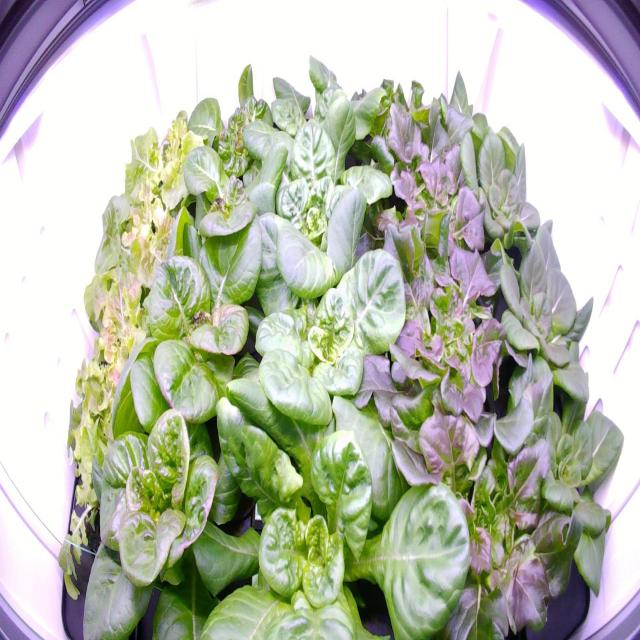Ready: (191, 344, 480, 636), (72, 342, 264, 637), (227, 186, 417, 442), (104, 188, 287, 440), (156, 122, 315, 296), (244, 102, 399, 266), (175, 44, 318, 210), (260, 36, 396, 179)
young: (489, 366, 630, 622), (483, 213, 608, 418), (448, 116, 562, 262), (415, 62, 516, 172)
